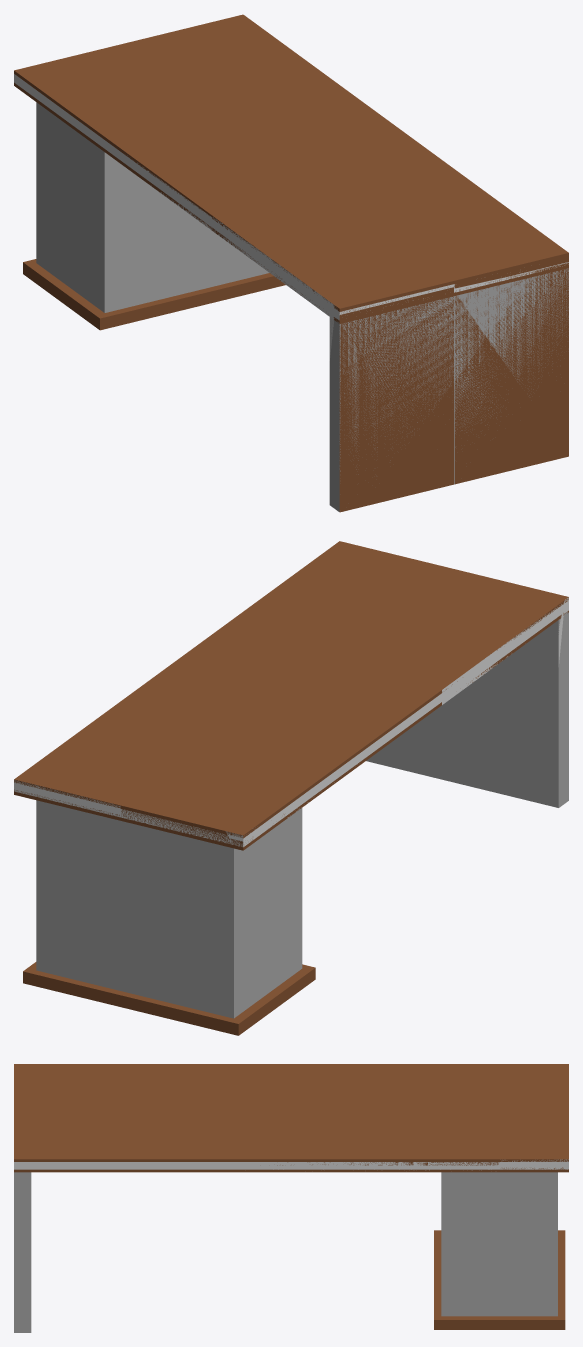
Rendered from teahouse_table1.fbx.
The picture shows the model from 3 angles, top to bottom: view 1: azimuth 30°, elevation 25°; view 2: azimuth 150°, elevation 25°; view 3: azimuth 270°, elevation 25°; orthographic projection. The views are drawn at different scales.
Visible parts, largest first — view 1: Cube, Cube_cell.008, Cube_cell.011, Cube_cell.020, Cube_cell.018, Cube_cell, Cube_cell.019, Cube_cell.021, Cube_cell.014, Cube_cell.024, Cube_cell.005, Cube_cell.009 (+3 smaller); view 2: Cube, Cube_cell.005, Cube_cell, Cube_cell.020, Cube_cell.024, Cube_cell.019, Cube_cell.008, Cube_cell.018, Cube_cell.009, Cube_cell.021, Cube_cell.006, Cube_cell.015; view 3: Cube, Cube_cell.020, Cube_cell, Cube_cell.015, Cube_cell.019, Cube_cell.017, Cube_cell.021, Cube_cell.024, Cube_cell.010.
Part boxes in pixels (box(x1,y1,x2,y2)): Cube: box(14, 14, 568, 484); Cube_cell.008: box(329, 295, 453, 512); Cube_cell.011: box(454, 262, 568, 484); Cube_cell.020: box(217, 94, 445, 187); Cube_cell.018: box(60, 201, 207, 326); Cube_cell: box(213, 217, 448, 310); Cube_cell.019: box(136, 15, 283, 69); Cube_cell.021: box(203, 225, 282, 303); Cube_cell.014: box(75, 155, 212, 230); Cube_cell.024: box(30, 47, 179, 196); Cube_cell.005: box(23, 177, 67, 299); Cube_cell.009: box(447, 248, 568, 288); Cube: box(14, 541, 568, 1035); Cube_cell.005: box(97, 911, 274, 1035); Cube_cell: box(370, 573, 563, 693); Cube_cell.020: box(147, 630, 326, 734); Cube_cell.024: box(121, 806, 284, 930); Cube_cell.019: box(14, 750, 157, 813); Cube_cell.008: box(504, 612, 568, 807); Cube_cell.018: box(266, 880, 310, 993); Cube_cell.009: box(322, 541, 452, 585); Cube_cell.021: box(24, 925, 105, 1000); Cube_cell.006: box(442, 608, 563, 704); Cube_cell.015: box(14, 789, 126, 896); Cube: box(14, 1064, 568, 1332); Cube_cell.020: box(222, 1111, 499, 1165); Cube_cell: box(23, 1064, 181, 1115); Cube_cell.015: box(500, 1167, 568, 1276); Cube_cell.019: box(500, 1115, 568, 1166); Cube_cell.017: box(351, 1166, 499, 1237); Cube_cell.021: box(434, 1239, 564, 1321); Cube_cell.024: box(482, 1065, 511, 1115); Cube_cell.010: box(14, 1064, 22, 1111).
Bounding box in the file's own units: 90.29 × 76.64 × 222.
